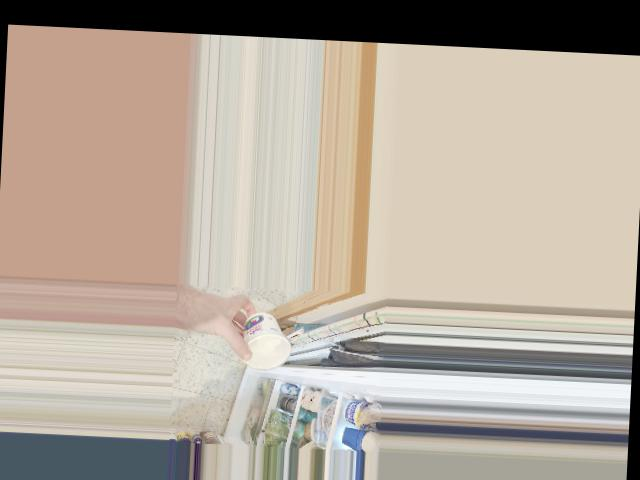cotage: (239, 311, 288, 369)
